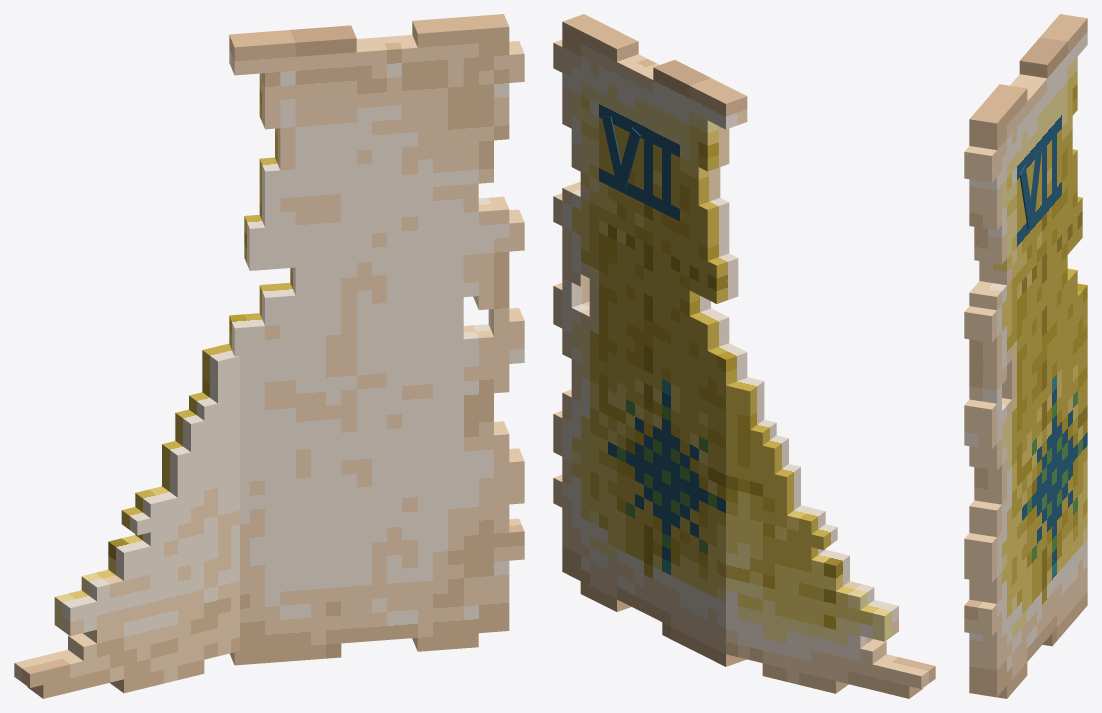
The picture shows the model from 3 angles, left to right: view 1: azimuth 30°, elevation 25°; view 2: azimuth 150°, elevation 25°; view 3: azimuth 270°, elevation 25°; orthographic projection. The views are drawn at different scales.
Visible parts, largest first — view 1: MapRight$$(2)-Local, MapCenter$$(2)-Local; view 2: MapRight$$(2)-Local, MapCenter$$(2)-Local, V02-Local, V01-Local; view 3: MapRight$$(2)-Local, V01-Local, V02-Local.
Part boxes in pixels (x1=…): MapRight$$(2)-Local: x1=229, y1=14, x2=524, y2=665; MapCenter$$(2)-Local: x1=14, y1=343, x2=239, y2=698; MapRight$$(2)-Local: x1=553, y1=14, x2=747, y2=666; MapCenter$$(2)-Local: x1=726, y1=377, x2=935, y2=698; V02-Local: x1=616, y1=127, x2=640, y2=188; V01-Local: x1=602, y1=116, x2=624, y2=184; MapRight$$(2)-Local: x1=964, y1=14, x2=1087, y2=698; V01-Local: x1=1019, y1=165, x2=1033, y2=228; V02-Local: x1=1029, y1=150, x2=1041, y2=224.
Bounding box in the file's own units: 33.85 × 44 × 8.38.
Materials: 4 (4 with a texture image).
